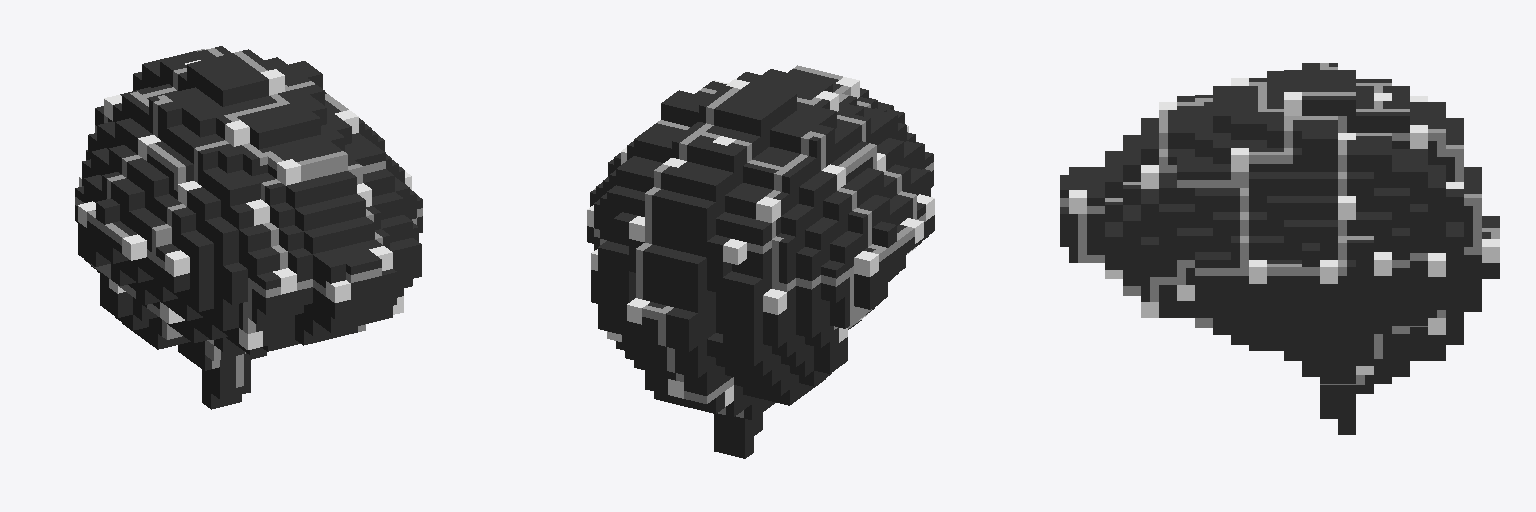
The picture shows the model from 3 angles: view 1: azimuth 30°, elevation 25°; view 2: azimuth 150°, elevation 25°; view 3: azimuth 270°, elevation 25°; orthographic projection.
Parts seen in each view (by area): view 1: connected_brain; view 2: connected_brain; view 3: connected_brain.
Boxes of the visible parts, box(x1,y1,x2,y2) form: connected_brain: box(75, 46, 422, 409); connected_brain: box(587, 65, 934, 458); connected_brain: box(1060, 63, 1499, 434).
Size of the model in its own units: 36 by 42 by 49.
1 materials, 1 textured.